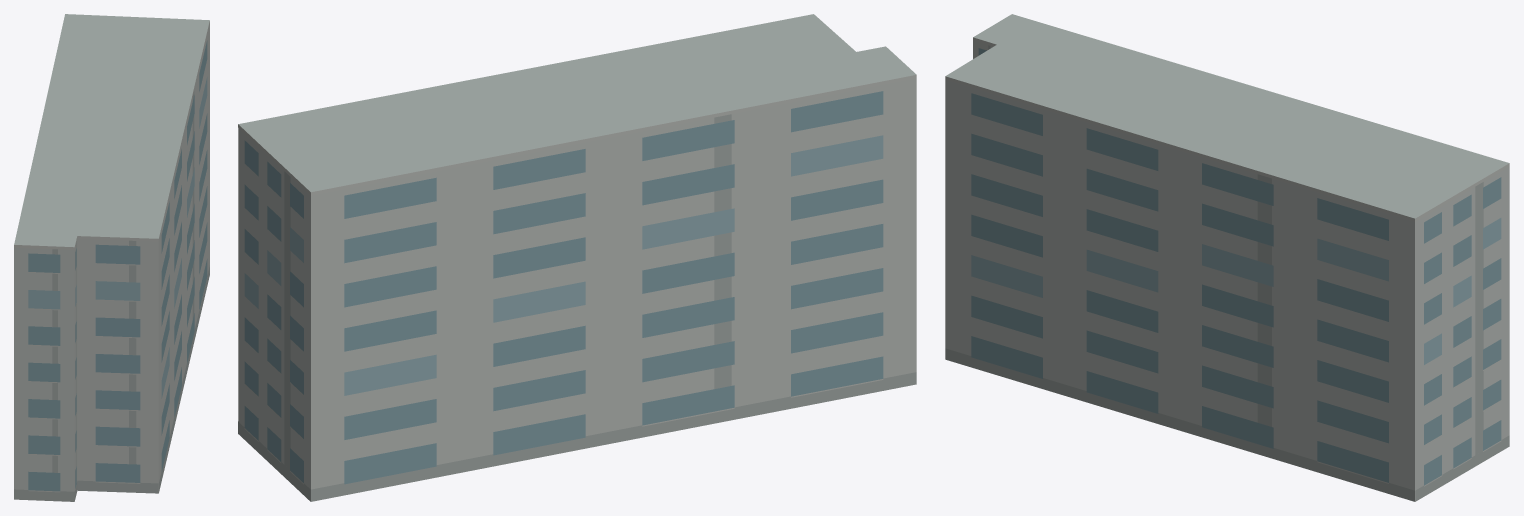
Rendered from survey-upis-32899030.glb.
The picture shows the model from 3 angles, left to right: view 1: azimuth 30°, elevation 25°; view 2: azimuth 150°, elevation 25°; view 3: azimuth 270°, elevation 25°; orthographic projection. The views are drawn at different scales.
Visible parts, largest first — view 1: survey-upis-32899030.tmp; view 2: survey-upis-32899030.tmp; view 3: survey-upis-32899030.tmp.
Part boxes in pixels (x1,y1,x2,y2): survey-upis-32899030.tmp: (14,14,209,501); survey-upis-32899030.tmp: (238,14,916,501); survey-upis-32899030.tmp: (945,14,1509,501).
Bounding box in the file's own units: 33.08 × 21.35 × 38.56.
